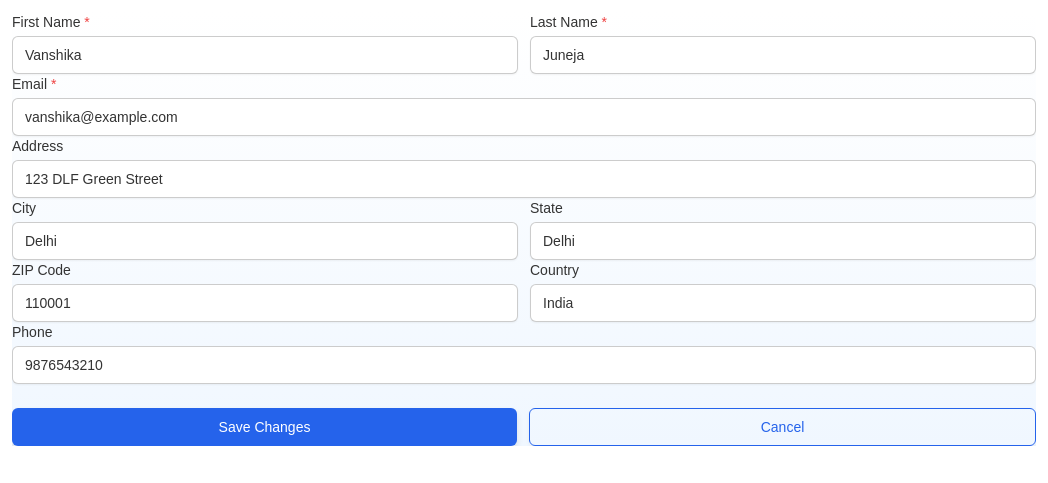
Test: ProfileForm › validation › shows error for empty last name on submit
The width and height of the screenshot is (1048, 483).
Clear the field labelled "Last Name *". click: point(783, 55)
box: [530, 36, 1036, 74]
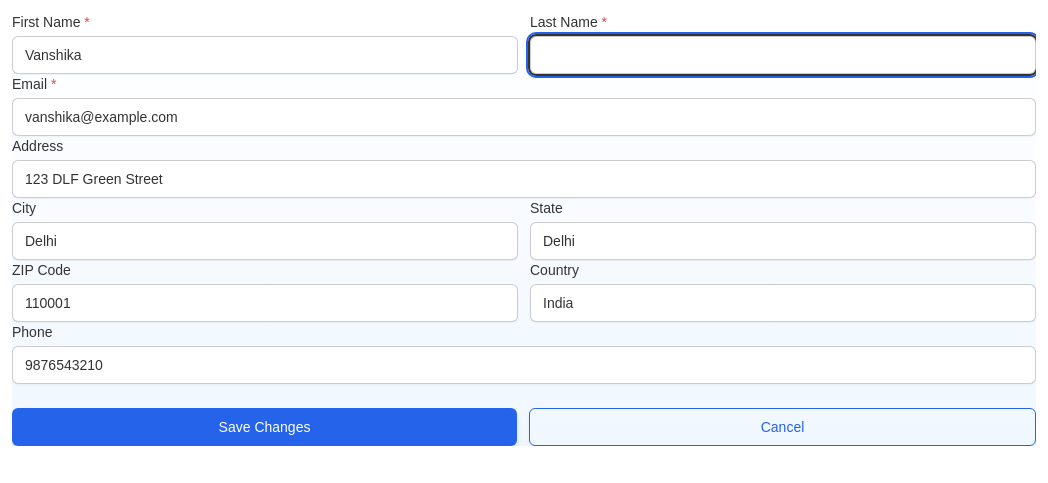
Click the button "Save Changes". click: point(264, 427)
box: [12, 408, 517, 446]
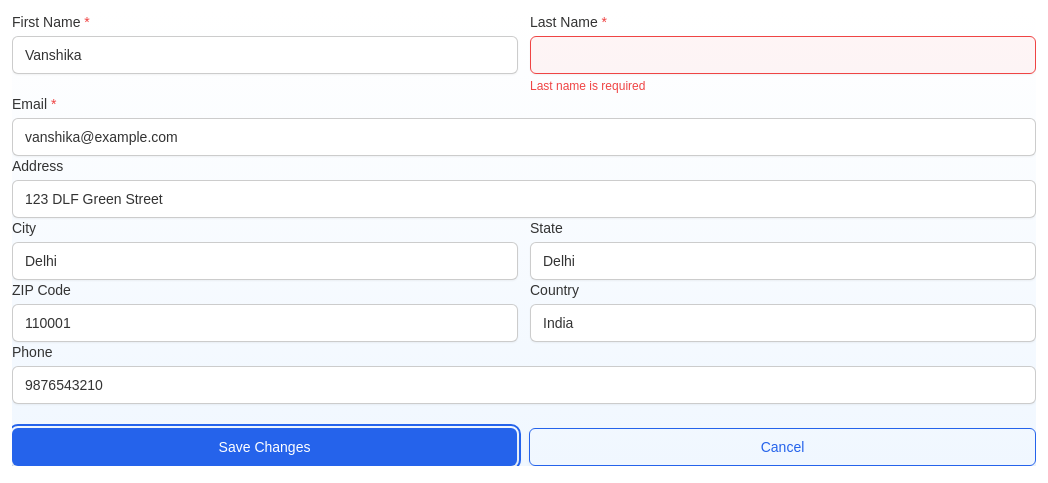
Now the text "Last name is required" is shown, box [530, 79, 645, 93]
